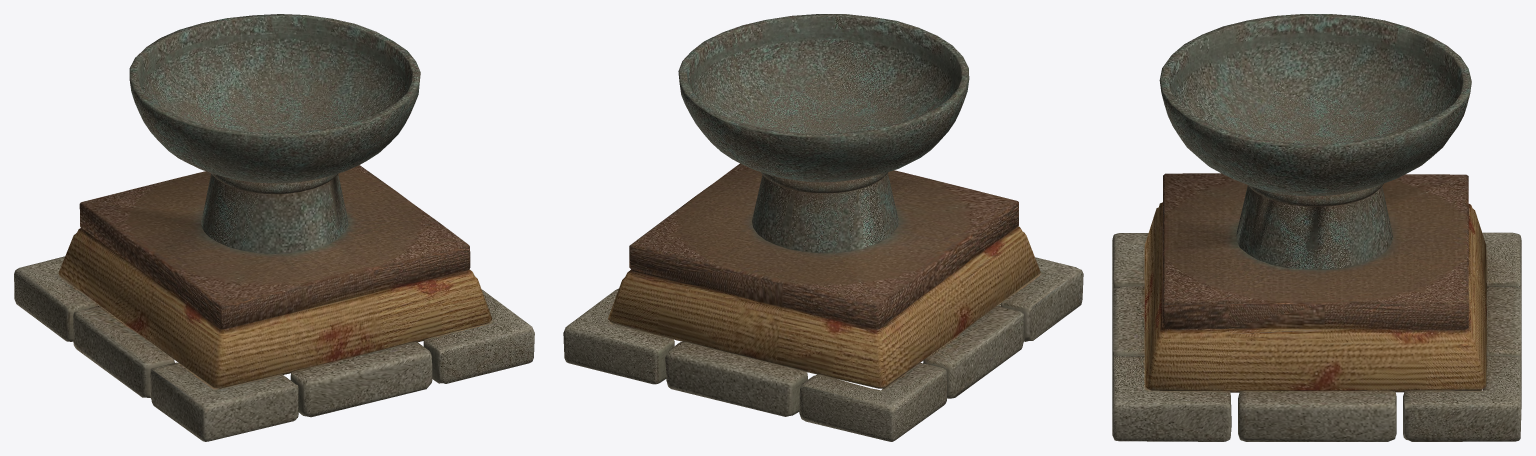
File: tripo_convert_2f993d70-652b-4808-8483-4e98dc8f4174.fbx
3 renders of one model, left to right at view 1: azimuth 30°, elevation 25°; view 2: azimuth 150°, elevation 25°; view 3: azimuth 270°, elevation 25°, orthographic. The views are drawn at different scales.
Parts seen in each view (by area): view 1: tripo_node_2f993d70; view 2: tripo_node_2f993d70; view 3: tripo_node_2f993d70.
Boxes of the visible parts, x1,y1,x2,y2 form: tripo_node_2f993d70: [14, 14, 534, 441]; tripo_node_2f993d70: [563, 14, 1083, 441]; tripo_node_2f993d70: [1112, 14, 1521, 441].
Size of the model in its own units: 0.998 by 0.748 by 0.998.
Materials: 1 (1 with a texture image).
